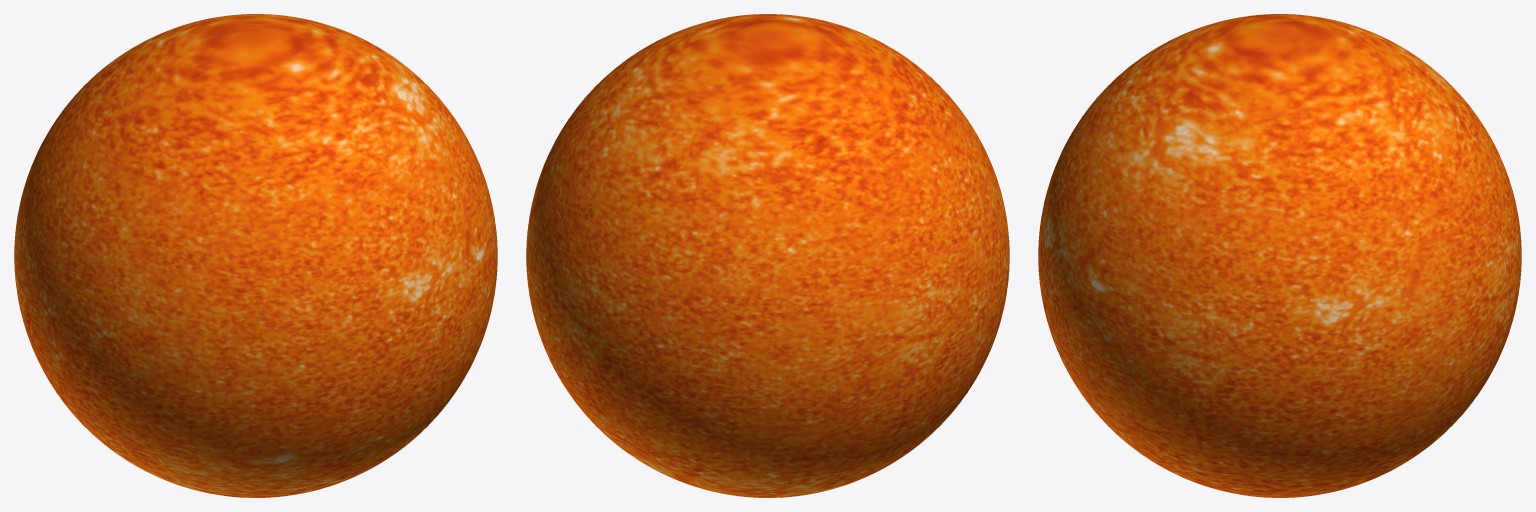
Rendered from sun.obj.
3 views of the same model, side by side, from view 1: azimuth 30°, elevation 25°; view 2: azimuth 150°, elevation 25°; view 3: azimuth 270°, elevation 25° (orthographic).
Parts seen in each view (by area): view 1: Sphere; view 2: Sphere; view 3: Sphere.
Boxes of the visible parts, bbox=[...] form: Sphere: bbox=[14, 14, 497, 497]; Sphere: bbox=[526, 14, 1009, 497]; Sphere: bbox=[1038, 14, 1521, 497].
Bounding box in the file's own units: 2 × 2 × 2.
1 material, 1 textured.
